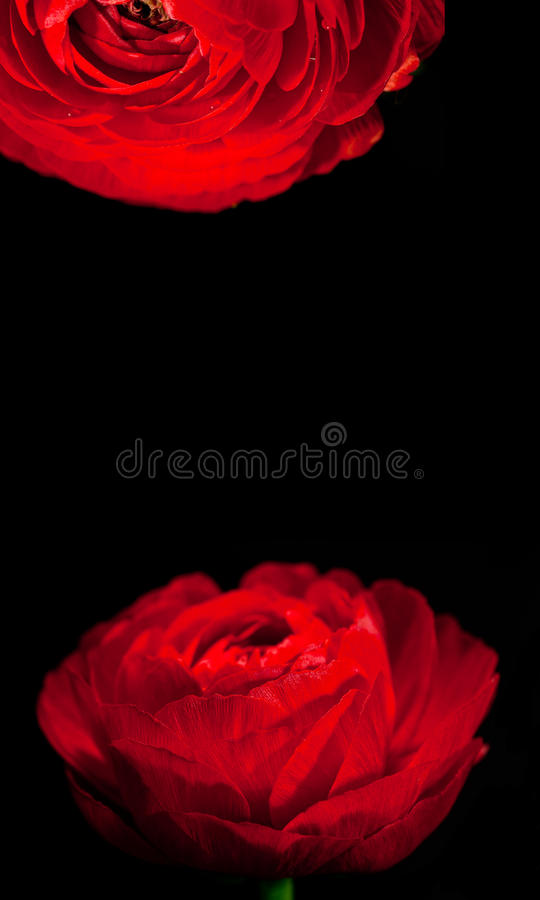RedRose: (62, 579, 453, 861), (14, 0, 425, 216)
